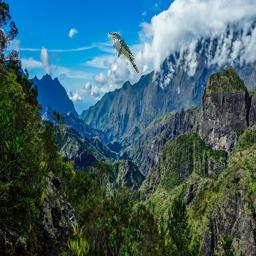Cuckoo: (108, 32, 139, 74)
